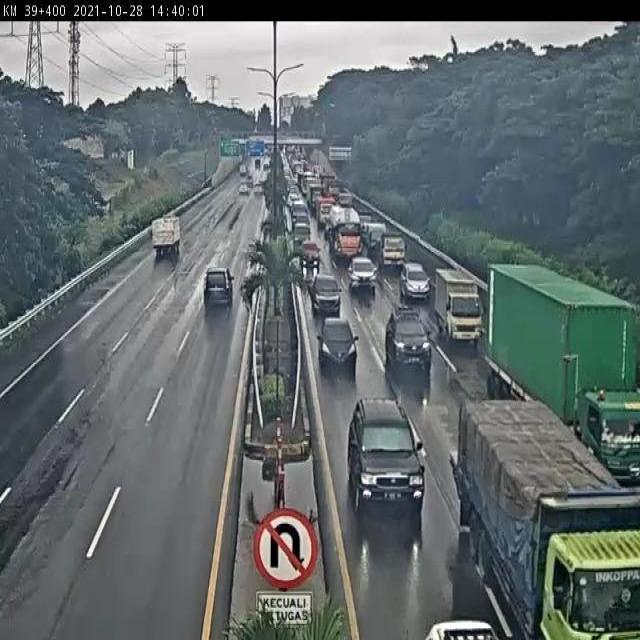big truck: (488, 258, 640, 491), (328, 204, 362, 257)
car: (346, 391, 427, 509), (383, 303, 434, 368), (317, 316, 358, 369), (310, 272, 342, 316), (398, 256, 430, 299), (348, 254, 381, 294), (202, 266, 235, 306), (298, 239, 322, 269)
small truck: (436, 266, 483, 346), (151, 213, 183, 256), (378, 228, 409, 268)
